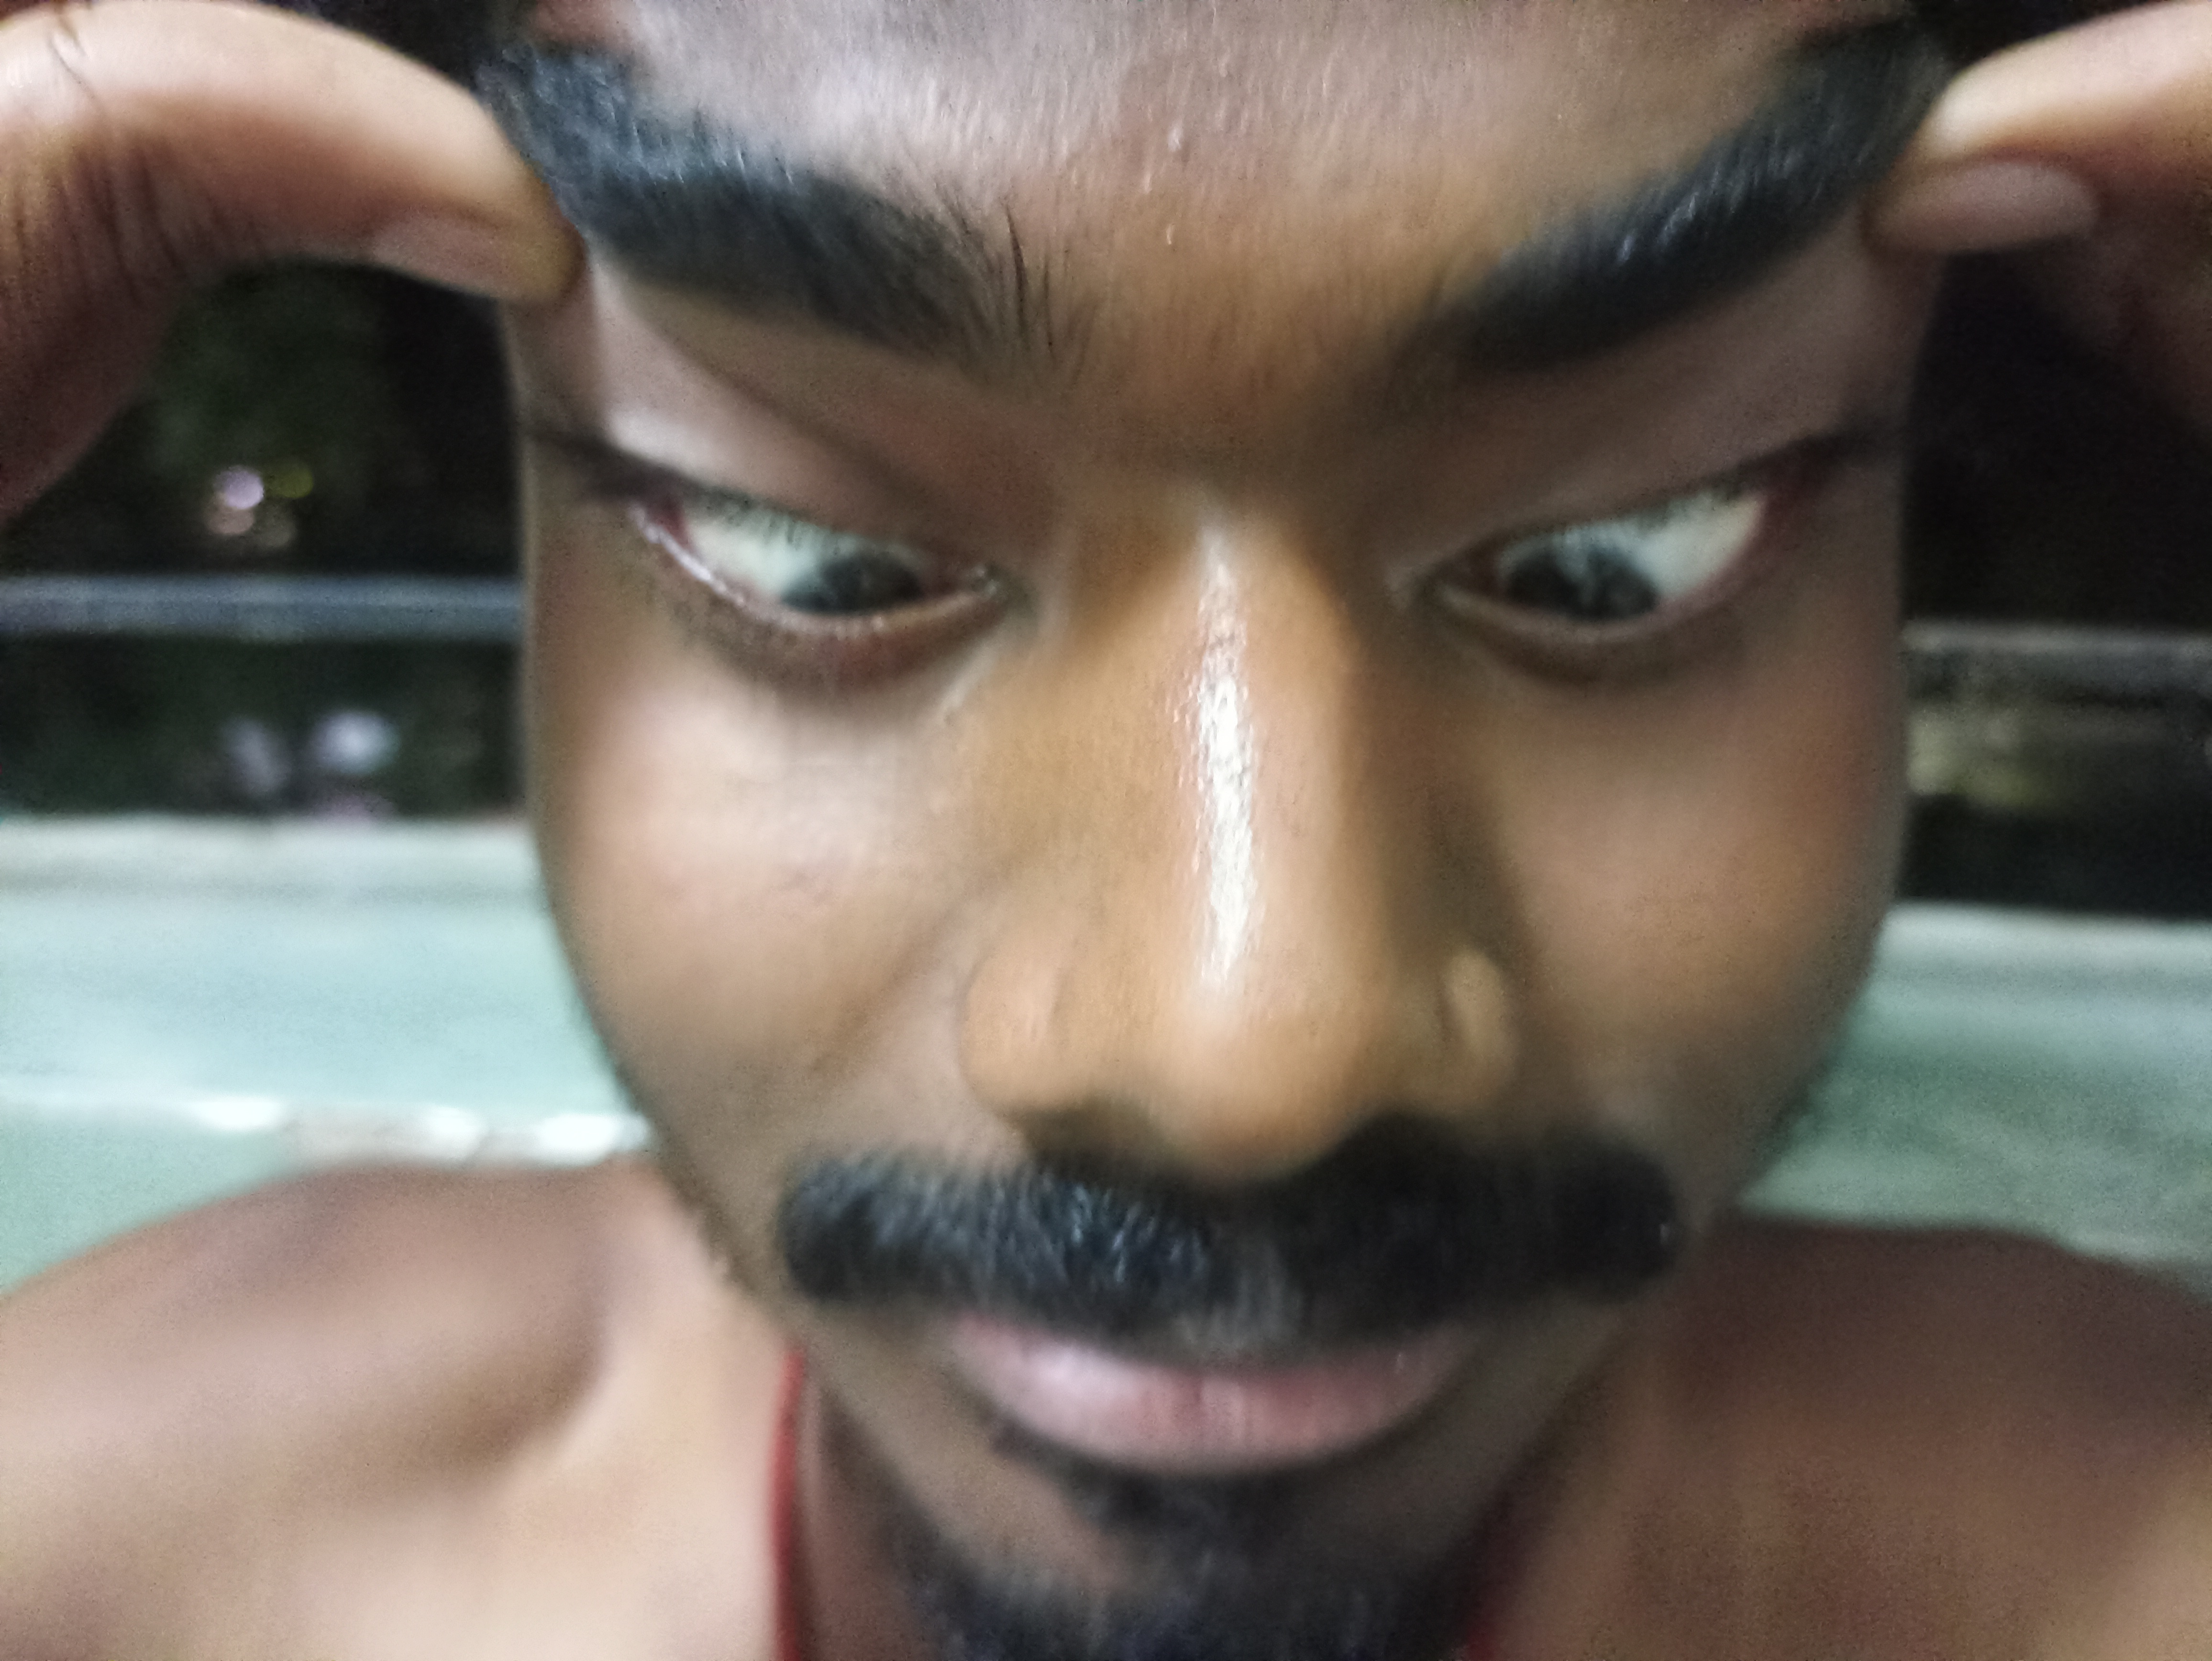EYE DOWN: (326, 384, 1073, 827), (1294, 379, 1973, 864)
